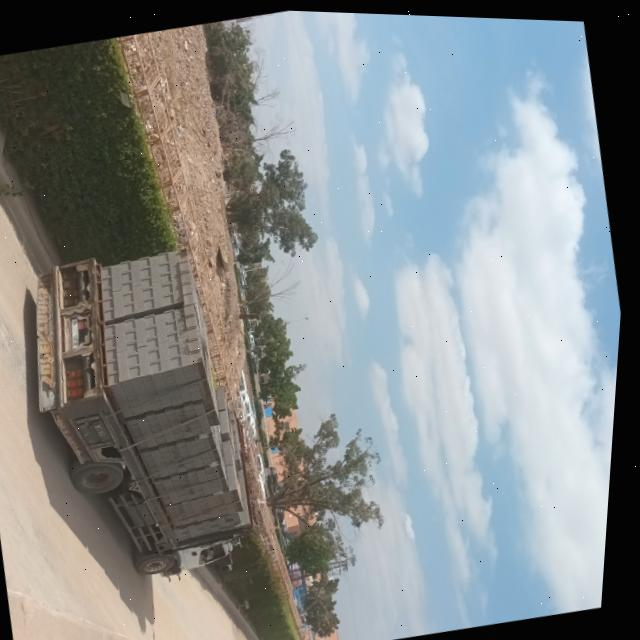bricks: (102, 250, 249, 545)
